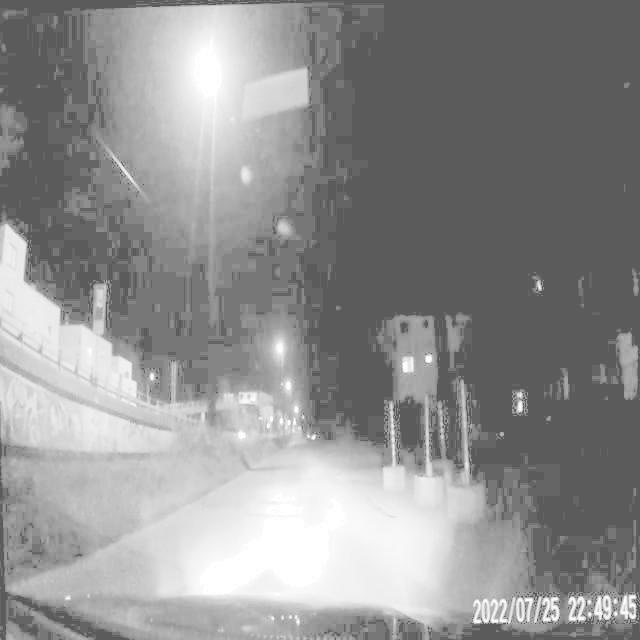Pothole: (254, 488, 299, 523), (338, 463, 377, 490)
